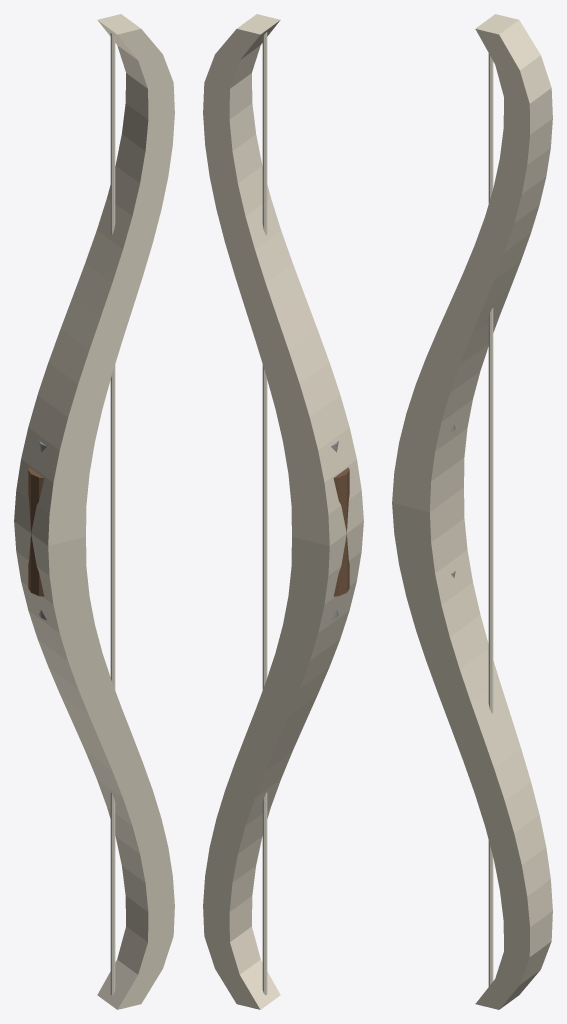
File: pro_bow.glb
3 renders of one model, left to right at view 1: azimuth 30°, elevation 25°; view 2: azimuth 150°, elevation 25°; view 3: azimuth 330°, elevation 25°, orthographic.
Parts seen in each view (by area): view 1: band; view 2: band; view 3: band.
Part boxes in pixels (<box>): band: <box>14,14,174,1009</box>; band: <box>203,14,363,1009</box>; band: <box>392,14,552,1009</box>.
Size of the model in its own units: 0.2103 by 1.48 by 0.094.
